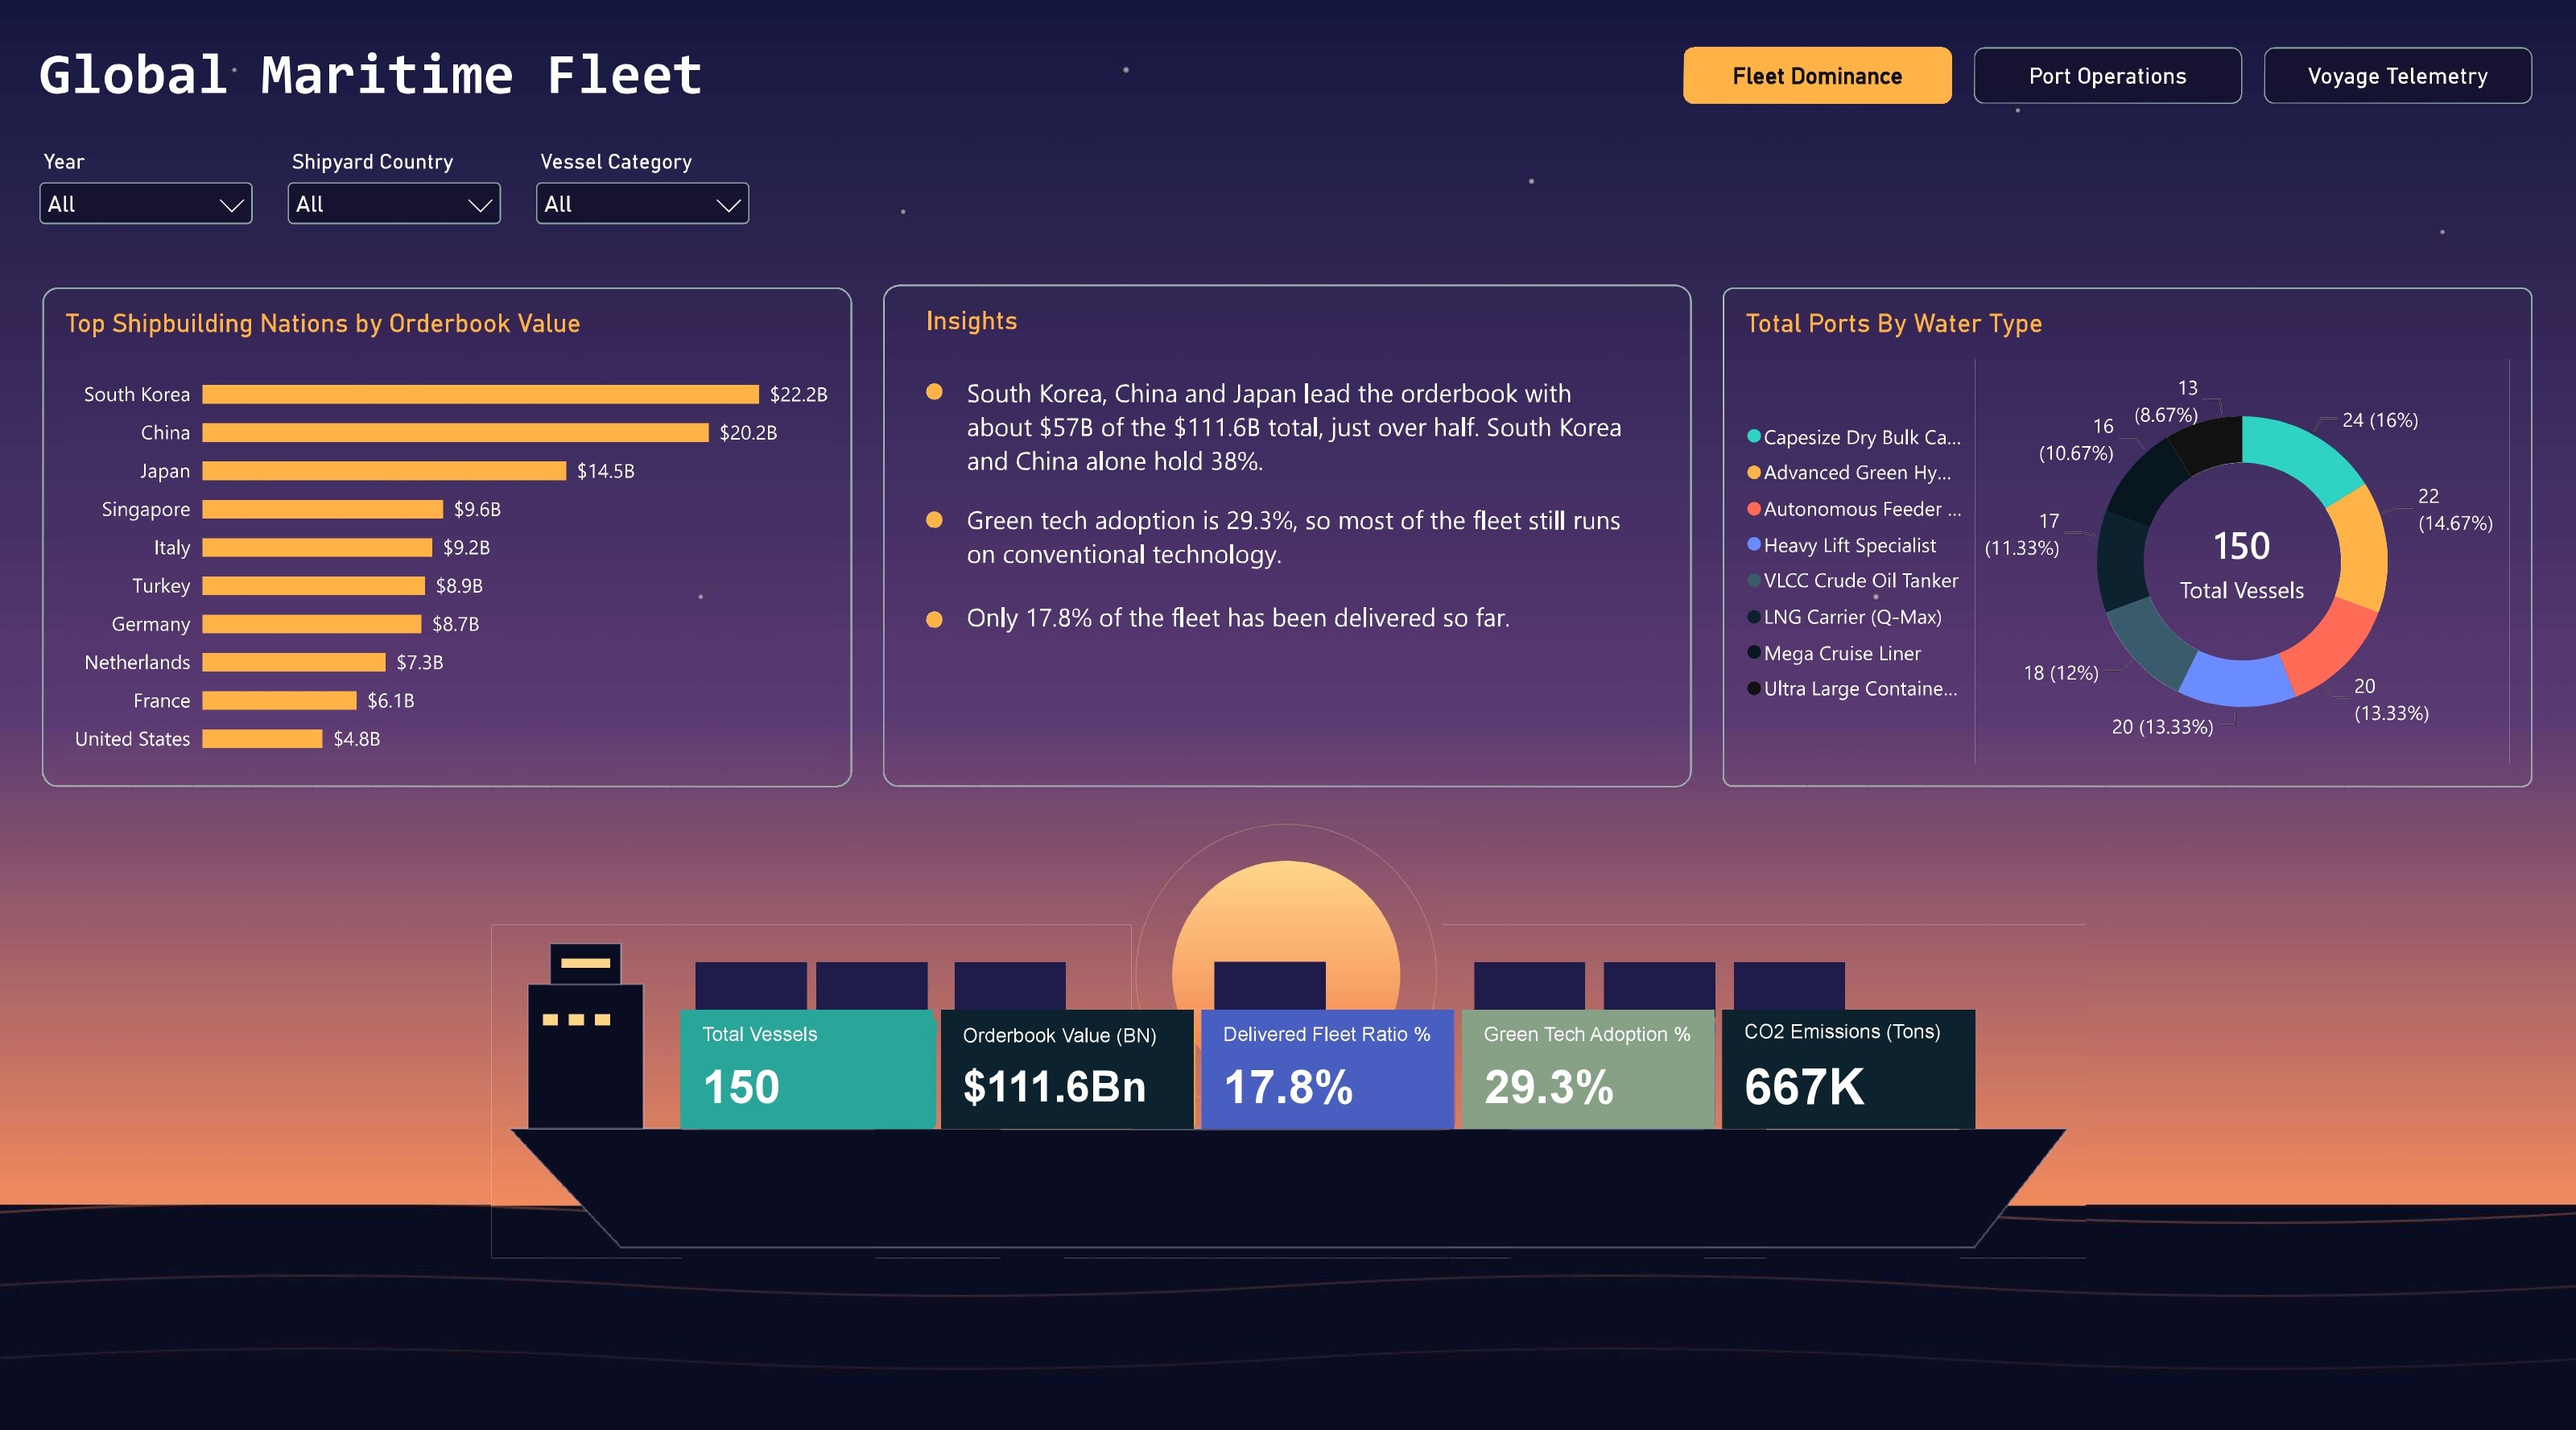

The page's visual inventory and layout, read from the dashboard file:
{"tool":"powerbi","page":{"name":"Fleet Dominance","canvas":[1920,1080],"ordinal":0},"visuals":[{"type":"image","box":[0,0,1920.7,1080.8],"z":0},{"type":"image","box":[827.5,615,262.5,230],"z":1000},{"type":"image","box":[367.5,692.5,1185,247.5],"z":2000},{"type":"textbox","box":[35,37.5,670,70],"z":3000},{"type":"pageNavigator","box":[1252.5,42.5,630,42.5],"z":4000},{"type":"group","id":"g1","title":"Group 1","box":[24.3,112.3,550,77.5],"z":5000},{"type":"slicer","title":"Year","fields":{"Values":["Dim_Date.Year"]},"box":[24.3,112.4,180,76],"z":5000,"group":"g1"},{"type":"slicer","title":"Shipyard Country","fields":{"Values":["Dim_Shipyards.Yard_Country_Name"]},"box":[208.5,112.3,180,76.2],"z":6000,"group":"g1"},{"type":"cardVisual","fields":{"Data":["_Measures.Total Vessels","_Measures.Total Orderbook Value (BN)","_Measures.Delivered Fleet Ratio %","_Measures.Green Tech Adoption %","_Measures.Total CO2 Emissions (Tons)"]},"box":[510,756,960,88],"z":6000},{"type":"slicer","fields":{"Values":["Dim_Vessels.Category_Name"]},"box":[392.7,112.3,180,76.2],"z":7000,"group":"g1"},{"type":"barChart","title":"Top Shipbuilding Nations by Orderbook Value","fields":{"Category":["Dim_Shipyards.Yard_Country_Name"],"Y":["_Measures.Total Orderbook Value (BN)"]},"box":[36.7,220.7,600,370],"z":7000},{"type":"donutChart","title":"Total Ports By Water Type","fields":{"Category":["Dim_Vessels.Category_Name"],"Y":["_Measures.Total Vessels"]},"box":[1282,220.7,600,370],"z":8000},{"type":"textbox","box":[722,286,494,88],"z":9000},{"type":"textbox","box":[722,380,494,72],"z":10000},{"type":"textbox","box":[722,452,494,74],"z":11000},{"type":"textbox","box":[692,234,162,44],"z":12000},{"type":"shape","box":[659.6,219.2,599.5,371.7],"z":13000},{"type":"shape","box":[692,292,12,12],"z":14000},{"type":"shape","box":[692,387,12,12],"z":15000},{"type":"shape","box":[692,460.5,12,12],"z":16000}]}

Visuals, with their boxes in screenshot pixels (x1, y1, x2, y2), scaled from the page's 1920x1080 canvas onto the 2576x1430 screenshot:
image: 0,0,2575,1429
image: 1110,814,1463,1119
image: 493,917,2083,1245
textbox: 47,50,946,143
pageNavigator: 1681,56,2526,113
"Group 1" group: 32,149,770,251
"Year" slicer: 32,149,275,250
"Shipyard Country" slicer: 280,149,522,250
cardVisual - _Measures.Total Vessels x _Measures.Total Orderbook Value (BN): 684,1001,1972,1118
slicer - Dim_Vessels.Category_Name: 526,149,769,250
"Top Shipbuilding Nations by Orderbook Value" barChart: 49,292,854,782
"Total Ports By Water Type" donutChart: 1720,292,2525,782
textbox: 968,378,1632,495
textbox: 968,503,1632,598
textbox: 968,598,1632,696
textbox: 928,310,1146,368
shape: 885,290,1689,783
shape: 928,386,944,403
shape: 928,512,944,528
shape: 928,610,944,626
